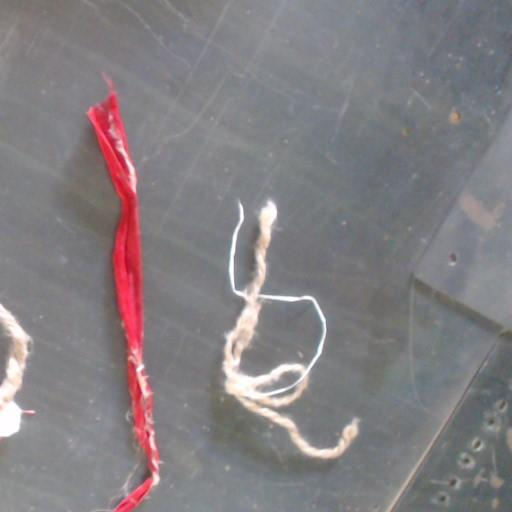cloth: (88, 90, 159, 511)
jute: (223, 201, 355, 458), (88, 91, 158, 511), (0, 304, 34, 438)
thread: (257, 294, 326, 396), (227, 200, 247, 302)
